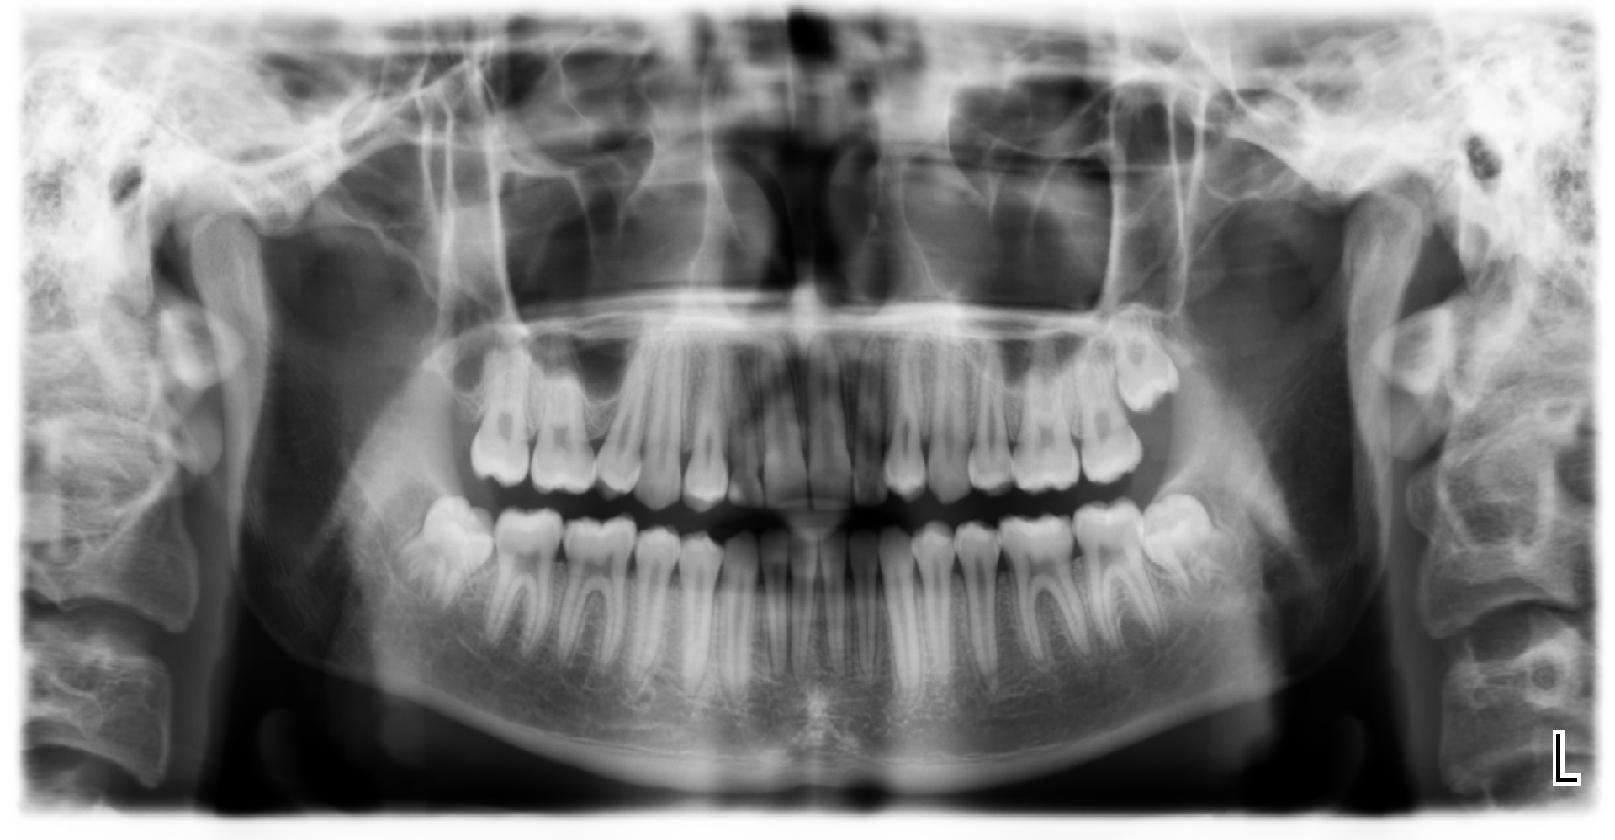Vertical: (397, 484, 499, 619), (1142, 489, 1241, 604)
